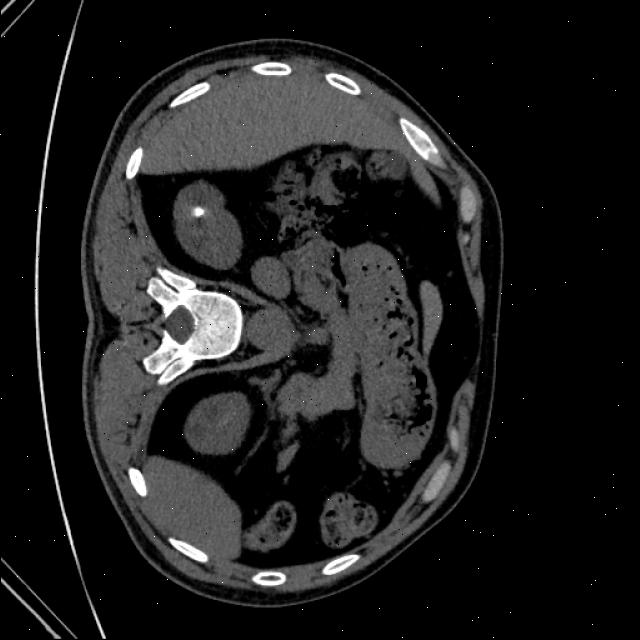kidneystone: (190, 205, 205, 218)
